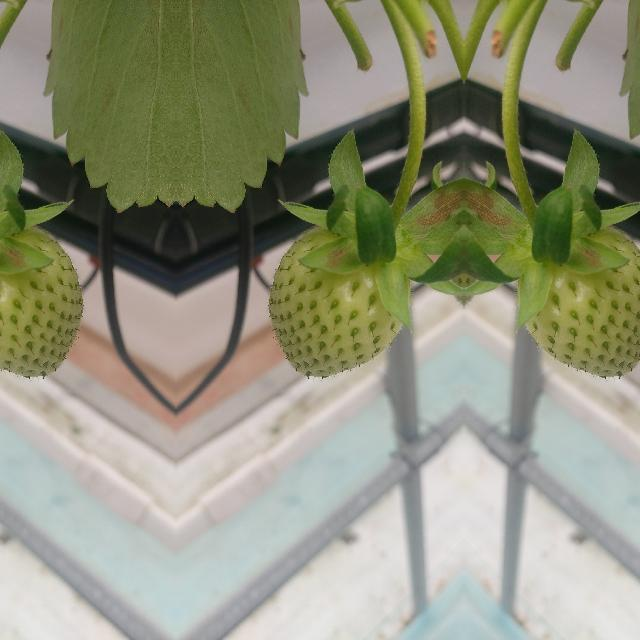Health_25: (268, 226, 410, 376), (516, 226, 640, 376), (0, 226, 82, 376)
